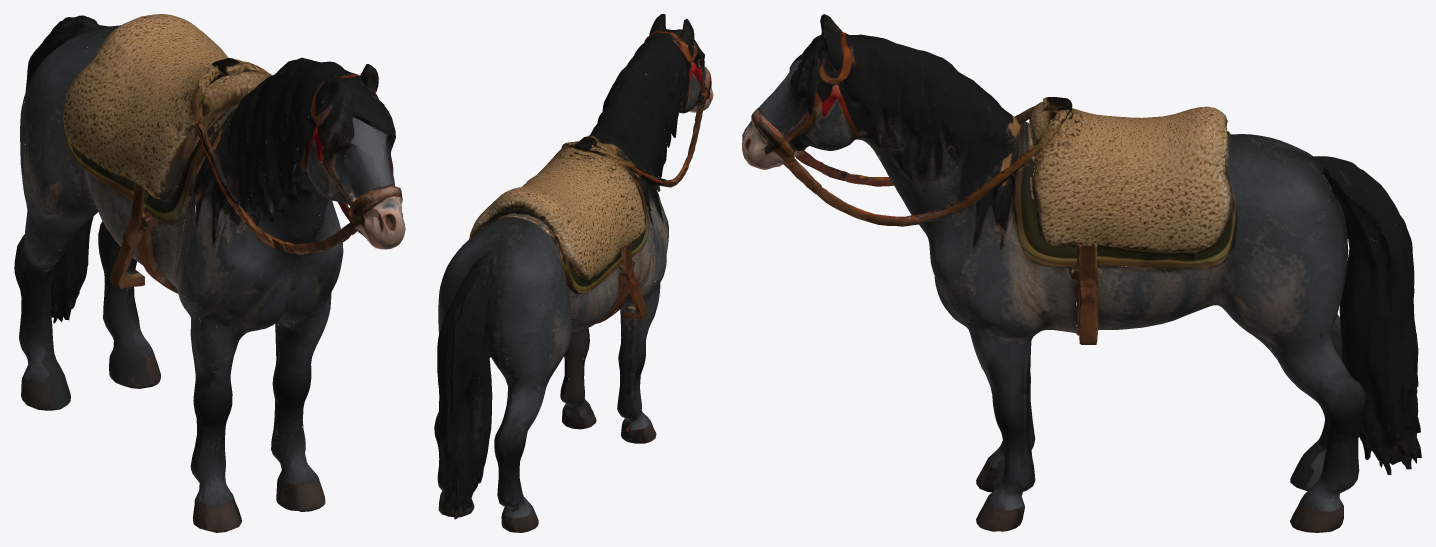
Rendered from caballo_moro.glb.
3 views of the same model, side by side, from view 1: azimuth 30°, elevation 25°; view 2: azimuth 150°, elevation 25°; view 3: azimuth 270°, elevation 25° (orthographic). The views are drawn at different scales.
Parts seen in each view (by area): view 1: caballo_moro; view 2: caballo_moro; view 3: caballo_moro.
Boxes of the visible parts, box(x1,y1,x2,y2) form: caballo_moro: box(14, 14, 405, 532); caballo_moro: box(434, 14, 713, 532); caballo_moro: box(742, 14, 1421, 532).
Bounding box in the file's own units: 0.7619 × 1.9 × 2.42.
Materials: 1 (1 with a texture image).
